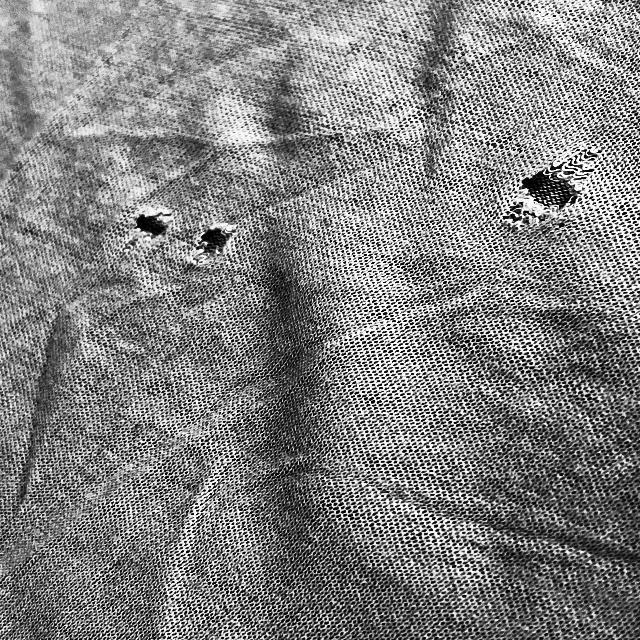Hole: (498, 149, 610, 230), (125, 200, 176, 246), (195, 216, 238, 260)
